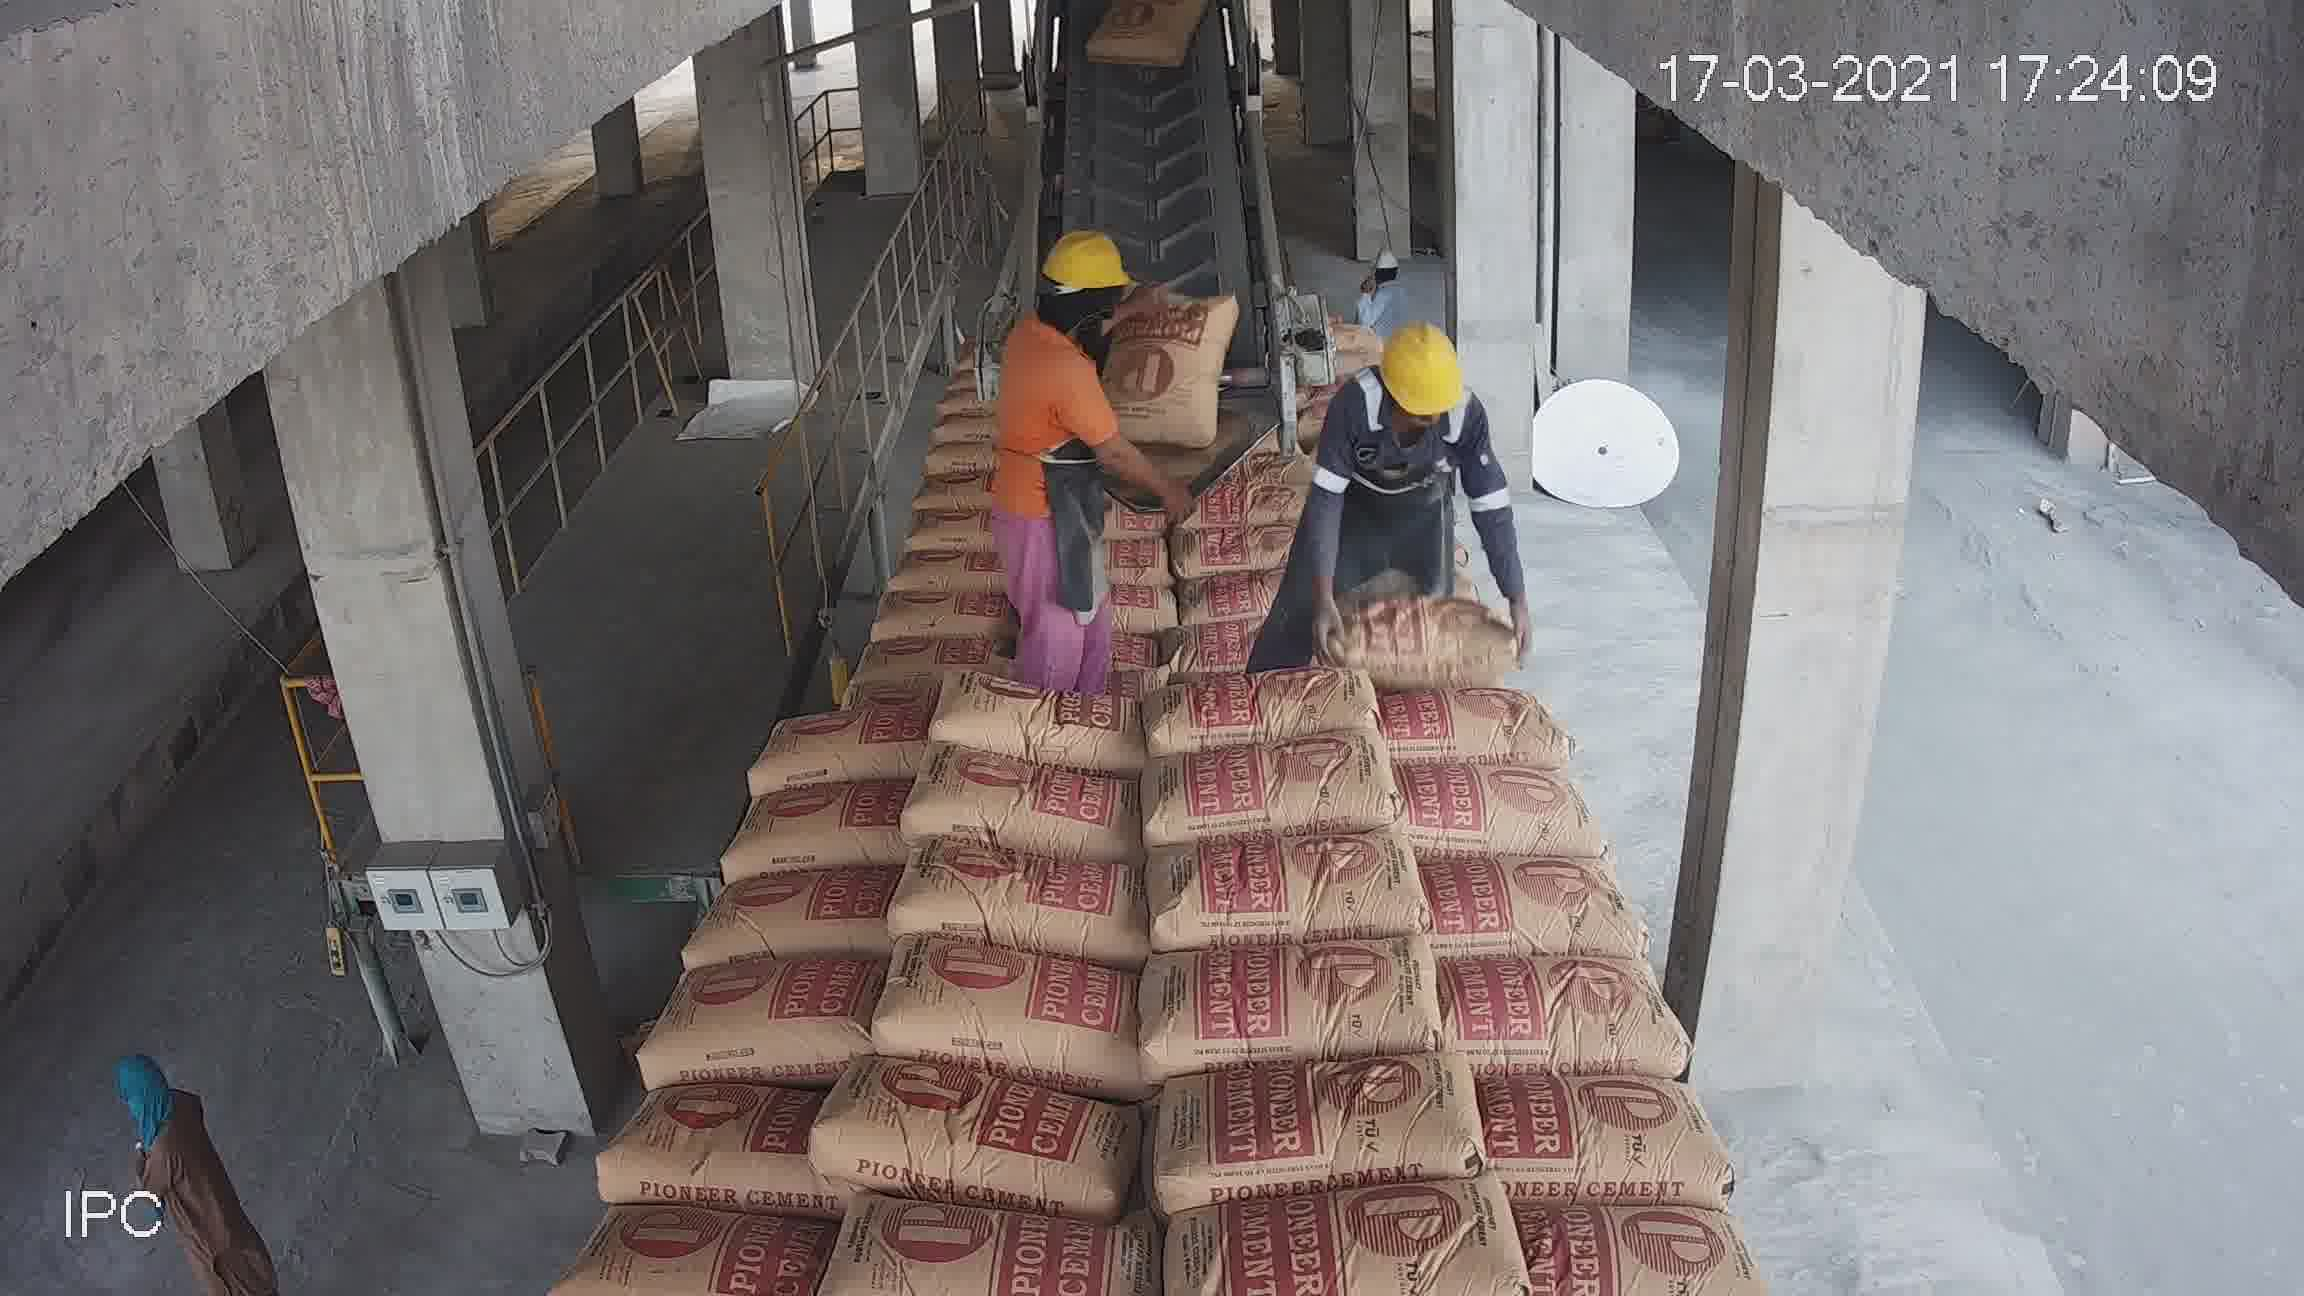bag: (1112, 161, 1198, 286)
bag_h: (1136, 1041, 1483, 1215), (1112, 940, 1434, 1079), (1135, 1187, 1532, 1296), (763, 1190, 1135, 1296), (1465, 1054, 1737, 1196), (805, 1086, 1135, 1199), (1445, 937, 1688, 1086), (600, 1060, 832, 1193), (543, 1185, 820, 1293), (1410, 840, 1650, 961), (1544, 1174, 1775, 1296), (896, 848, 1161, 949), (646, 930, 859, 1055), (869, 964, 1157, 1055), (1400, 739, 1625, 847), (753, 616, 957, 733), (679, 851, 885, 961), (744, 688, 929, 809), (712, 764, 904, 880), (1158, 850, 1416, 930), (1161, 742, 1400, 828), (891, 752, 1147, 826), (945, 559, 1165, 633), (1383, 677, 1590, 755), (1166, 680, 1399, 748), (945, 674, 1139, 755), (820, 565, 980, 649), (1185, 609, 1377, 679), (957, 623, 1173, 684), (1184, 538, 1381, 603), (1386, 619, 1559, 692), (1173, 484, 1347, 555), (1351, 510, 1510, 579), (978, 465, 1135, 530), (972, 510, 1130, 571), (828, 527, 970, 592), (1342, 476, 1484, 532), (1377, 574, 1537, 623), (842, 491, 973, 548), (1176, 460, 1317, 506), (1146, 407, 1233, 467), (927, 400, 1024, 448), (915, 434, 1003, 484), (1165, 359, 1255, 402), (915, 460, 991, 510)
belt: (1044, 17, 1255, 304)
